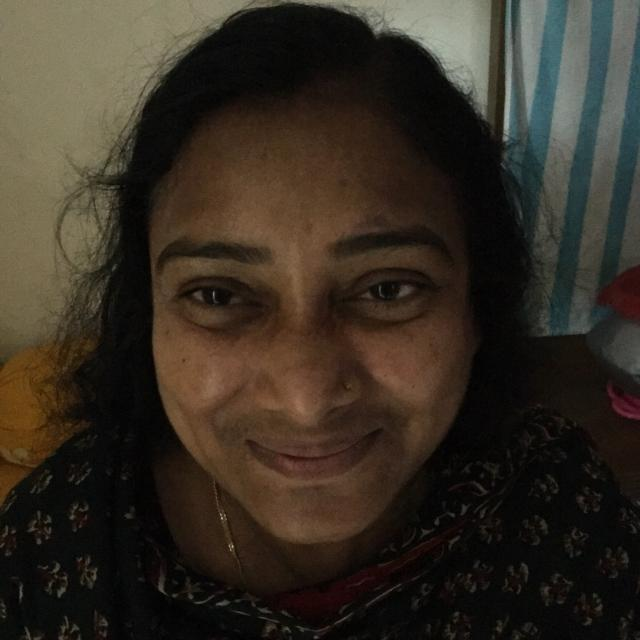Happy: (103, 97, 535, 580)
